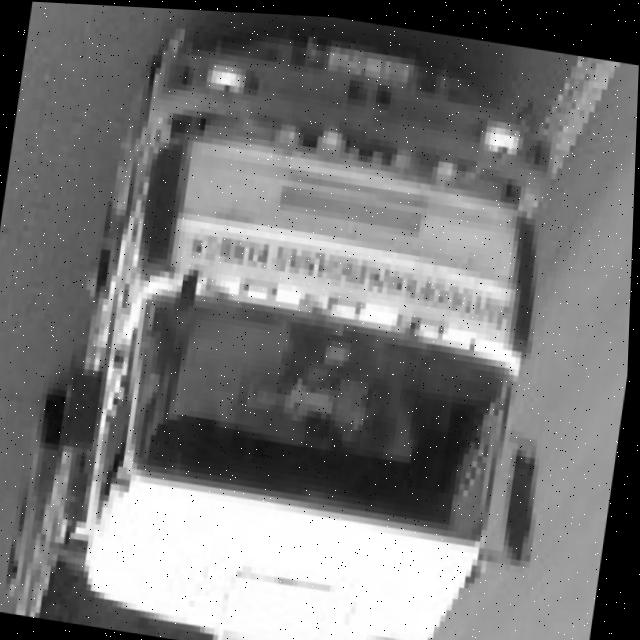truck: (11, 2, 591, 640)
